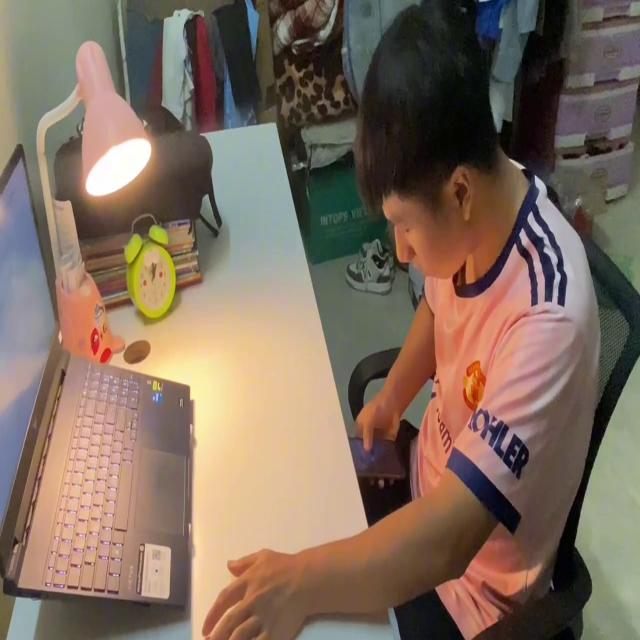laptop: (0, 134, 195, 616)
phone: (341, 427, 402, 488)
student: (204, 0, 602, 640)
